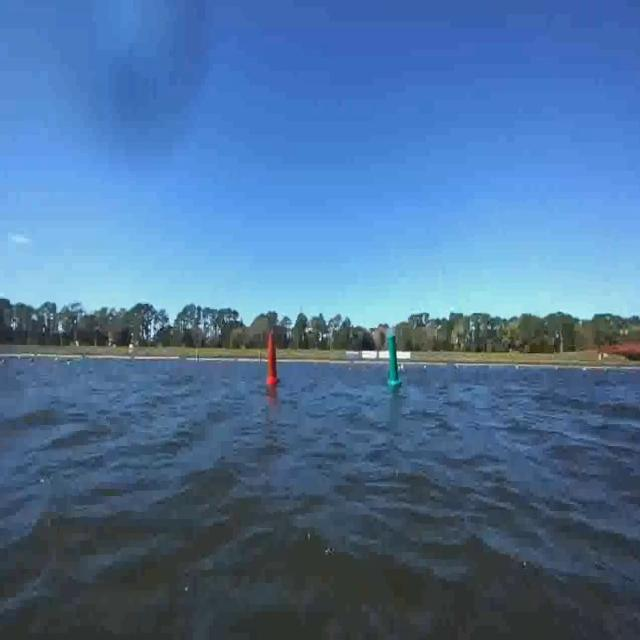green-column-buoy: (386, 333, 403, 388)
red-column-buoy: (266, 332, 281, 385)
